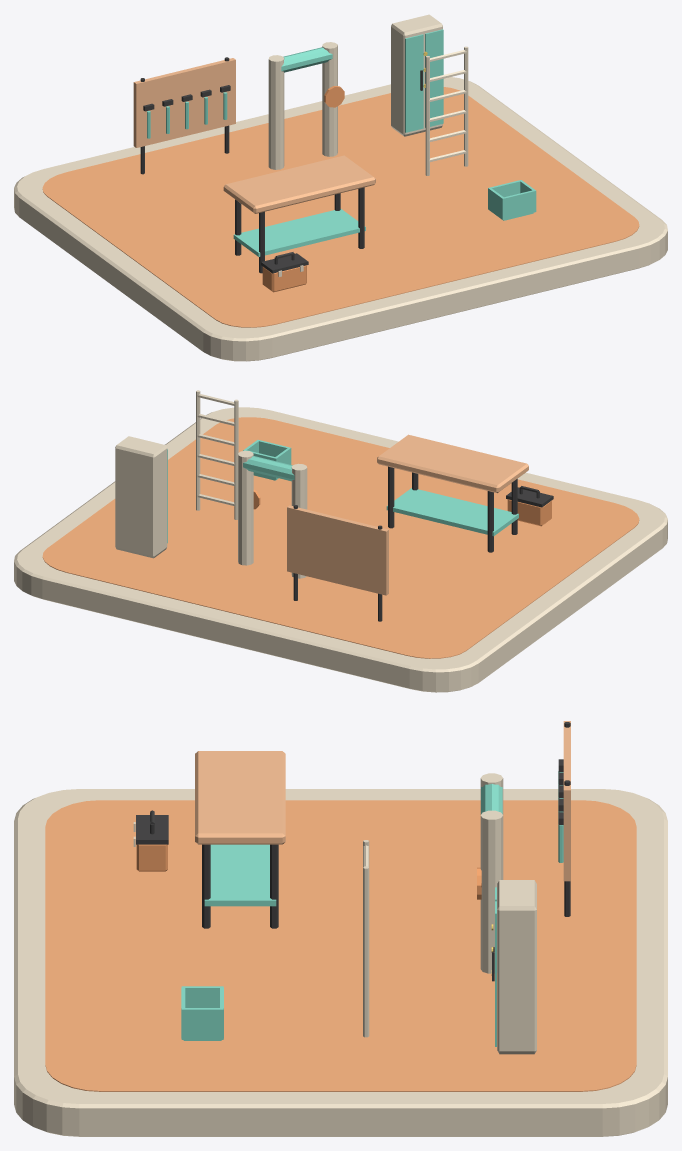
The model's file is room.fbx.
The picture shows the model from 3 angles, top to bottom: view 1: azimuth 30°, elevation 25°; view 2: azimuth 150°, elevation 25°; view 3: azimuth 270°, elevation 25°; orthographic projection. The views are drawn at different scales.
Visible parts, largest first — view 1: COM-02 Floor Surface, COM-01 Rounded Base Direct, Peg board, Worktop, Lower shelf, Equipment case, Pipe, Door, Pipe.001, Door.001, Box, Cross pipe (+4 smaller); view 2: COM-02 Floor Surface, COM-01 Rounded Base Direct, Peg board, Equipment case, Worktop, Lower shelf, Pipe.001, Cross pipe, Pipe, Box, Rail.001, Rail (+1 smaller); view 3: COM-02 Floor Surface, COM-01 Rounded Base Direct, Worktop, Equipment case, Lower shelf, Pipe.001, Bin side.001, Peg board, Rail.001, Lid, Box, Bin side (+2 smaller).
Boxes of the visible parts, left/top/right/bottom form: COM-02 Floor Surface: left=42, top=87, right=639, bottom=327; COM-01 Rounded Base Direct: left=14, top=77, right=667, bottom=361; Peg board: left=133, top=58, right=235, bottom=147; Worktop: left=223, top=155, right=375, bottom=213; Lower shelf: left=233, top=209, right=365, bottom=256; Equipment case: left=391, top=14, right=442, bottom=136; Pipe: left=268, top=55, right=284, bottom=169; Door: left=405, top=34, right=423, bottom=132; Pipe.001: left=322, top=42, right=337, bottom=156; Door.001: left=425, top=29, right=443, bottom=127; Box: left=262, top=265, right=306, bottom=292; Cross pipe: left=281, top=47, right=332, bottom=72; COM-02 Floor Surface: left=42, top=417, right=639, bottom=658; COM-01 Rounded Base Direct: left=14, top=407, right=667, bottom=692; Peg board: left=287, top=505, right=388, bottom=595; Equipment case: left=115, top=436, right=167, bottom=558; Worktop: left=377, top=434, right=528, bottom=493; Lower shelf: left=386, top=488, right=518, bottom=536; Pipe.001: left=238, top=450, right=253, bottom=565; Cross pipe: left=243, top=456, right=294, bottom=481; Pipe: left=291, top=463, right=307, bottom=578; Box: left=507, top=499, right=551, bottom=526; Rail.001: left=196, top=390, right=200, bottom=510; Rail: left=234, top=399, right=238, bottom=519; COM-02 Floor Surface: left=45, top=800, right=636, bottom=1091; COM-01 Rounded Base Direct: left=14, top=789, right=667, bottom=1136; Worktop: left=195, top=751, right=285, bottom=844; Equipment case: left=497, top=880, right=536, bottom=1054; Lower shelf: left=204, top=844, right=276, bottom=906; Pipe.001: left=480, top=810, right=503, bottom=973; Bin side.001: left=181, top=1008, right=223, bottom=1039; Peg board: left=563, top=721, right=570, bottom=881; Rail.001: left=363, top=866, right=369, bottom=1037; Lid: left=136, top=815, right=168, bottom=844; Box: left=136, top=844, right=167, bottom=871; Bin side: left=181, top=986, right=223, bottom=1007.
Bounding box in the file's own units: 600 × 180 × 520.
